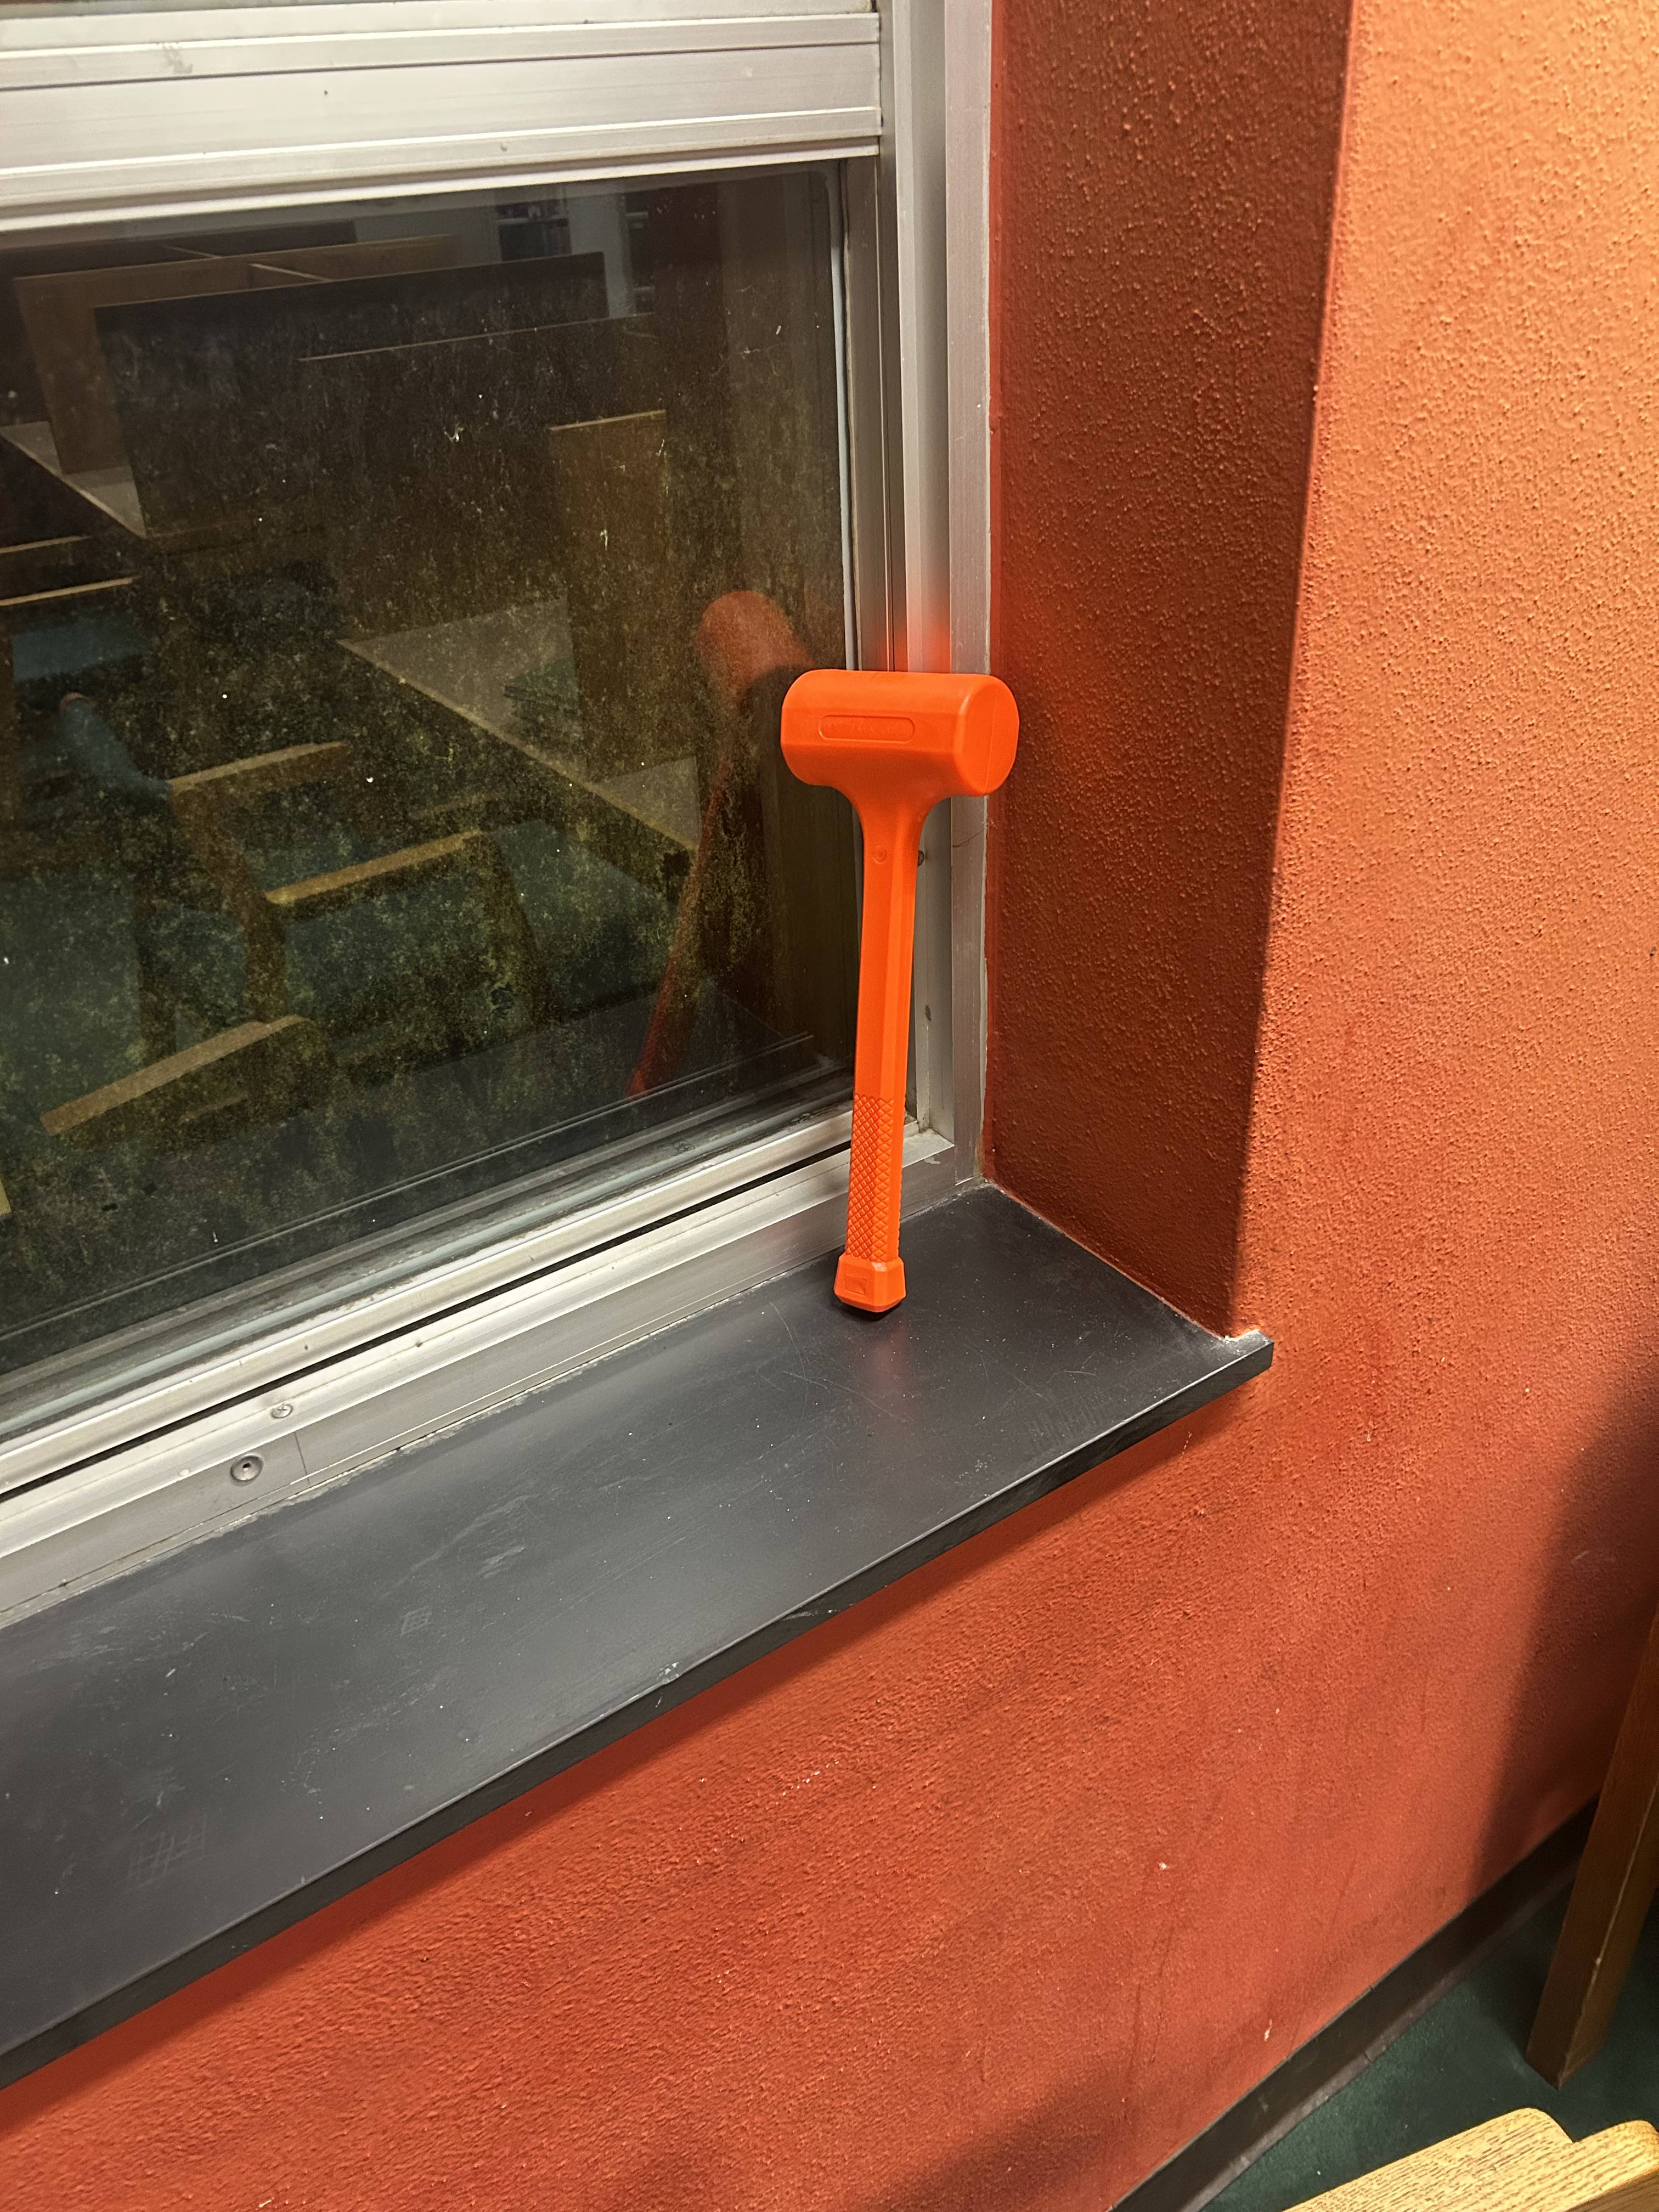Hammer: (749, 643, 1030, 1346)
